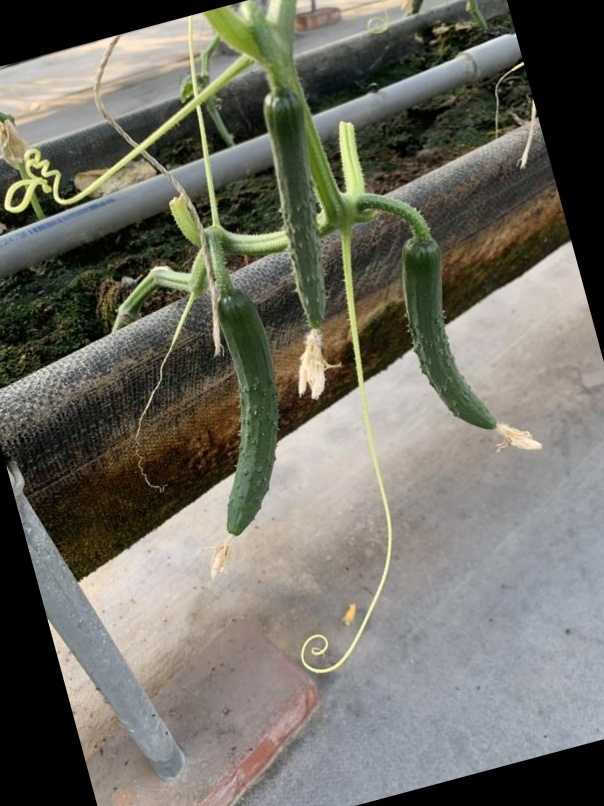growth: (400, 226, 520, 441), (266, 87, 332, 337)
mature: (214, 289, 283, 542)
